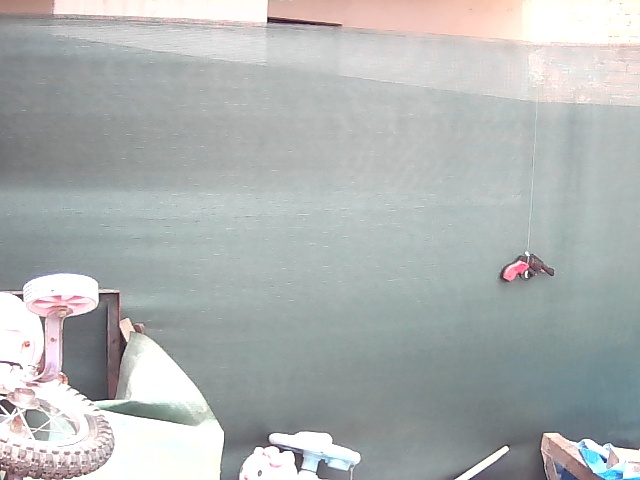pistola: (496, 246, 559, 289)
